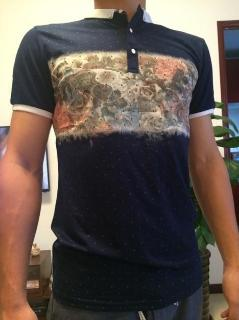short sleeve top: (10, 4, 216, 312)
